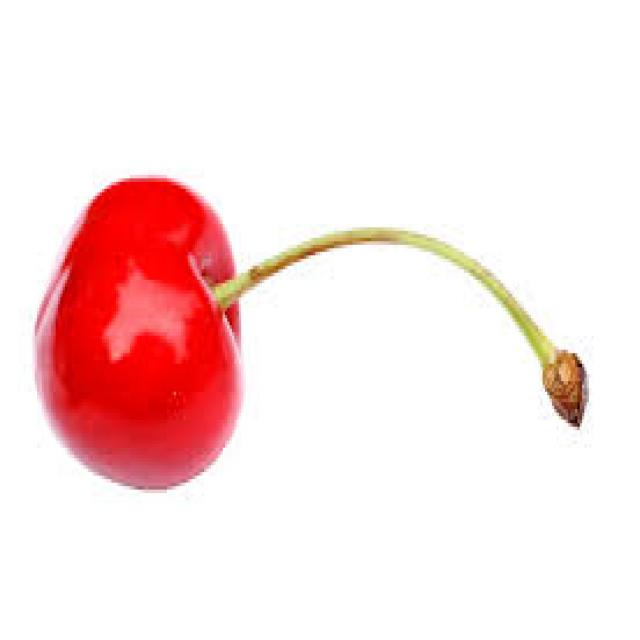organic waste: (28, 175, 243, 490)
